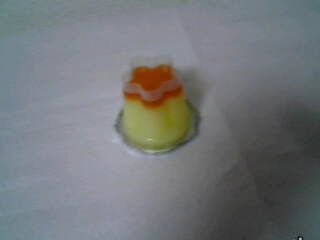001_classes: (107, 51, 211, 159)
